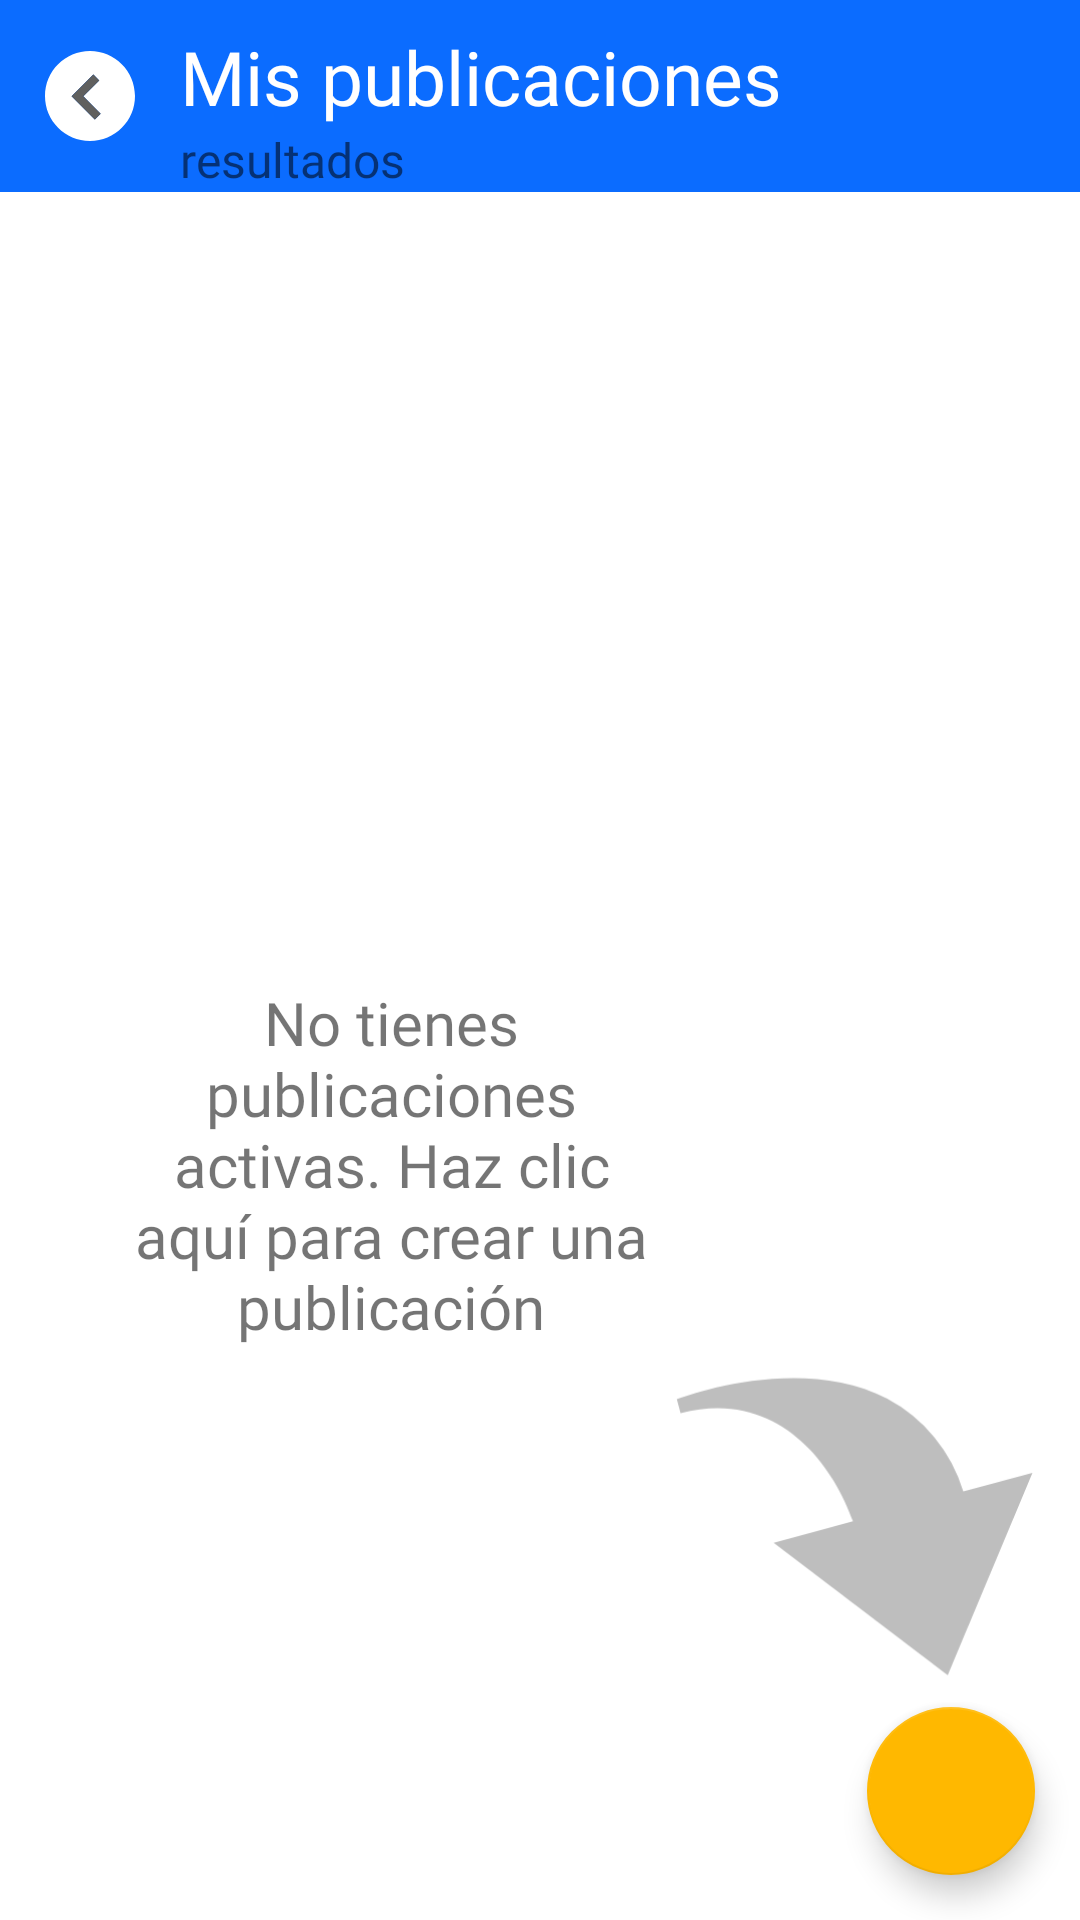

Named icons in this screenshot (1080×1920) and their centers, [x,y]:
back: [90,96]
flecha curva: [854,1526]
